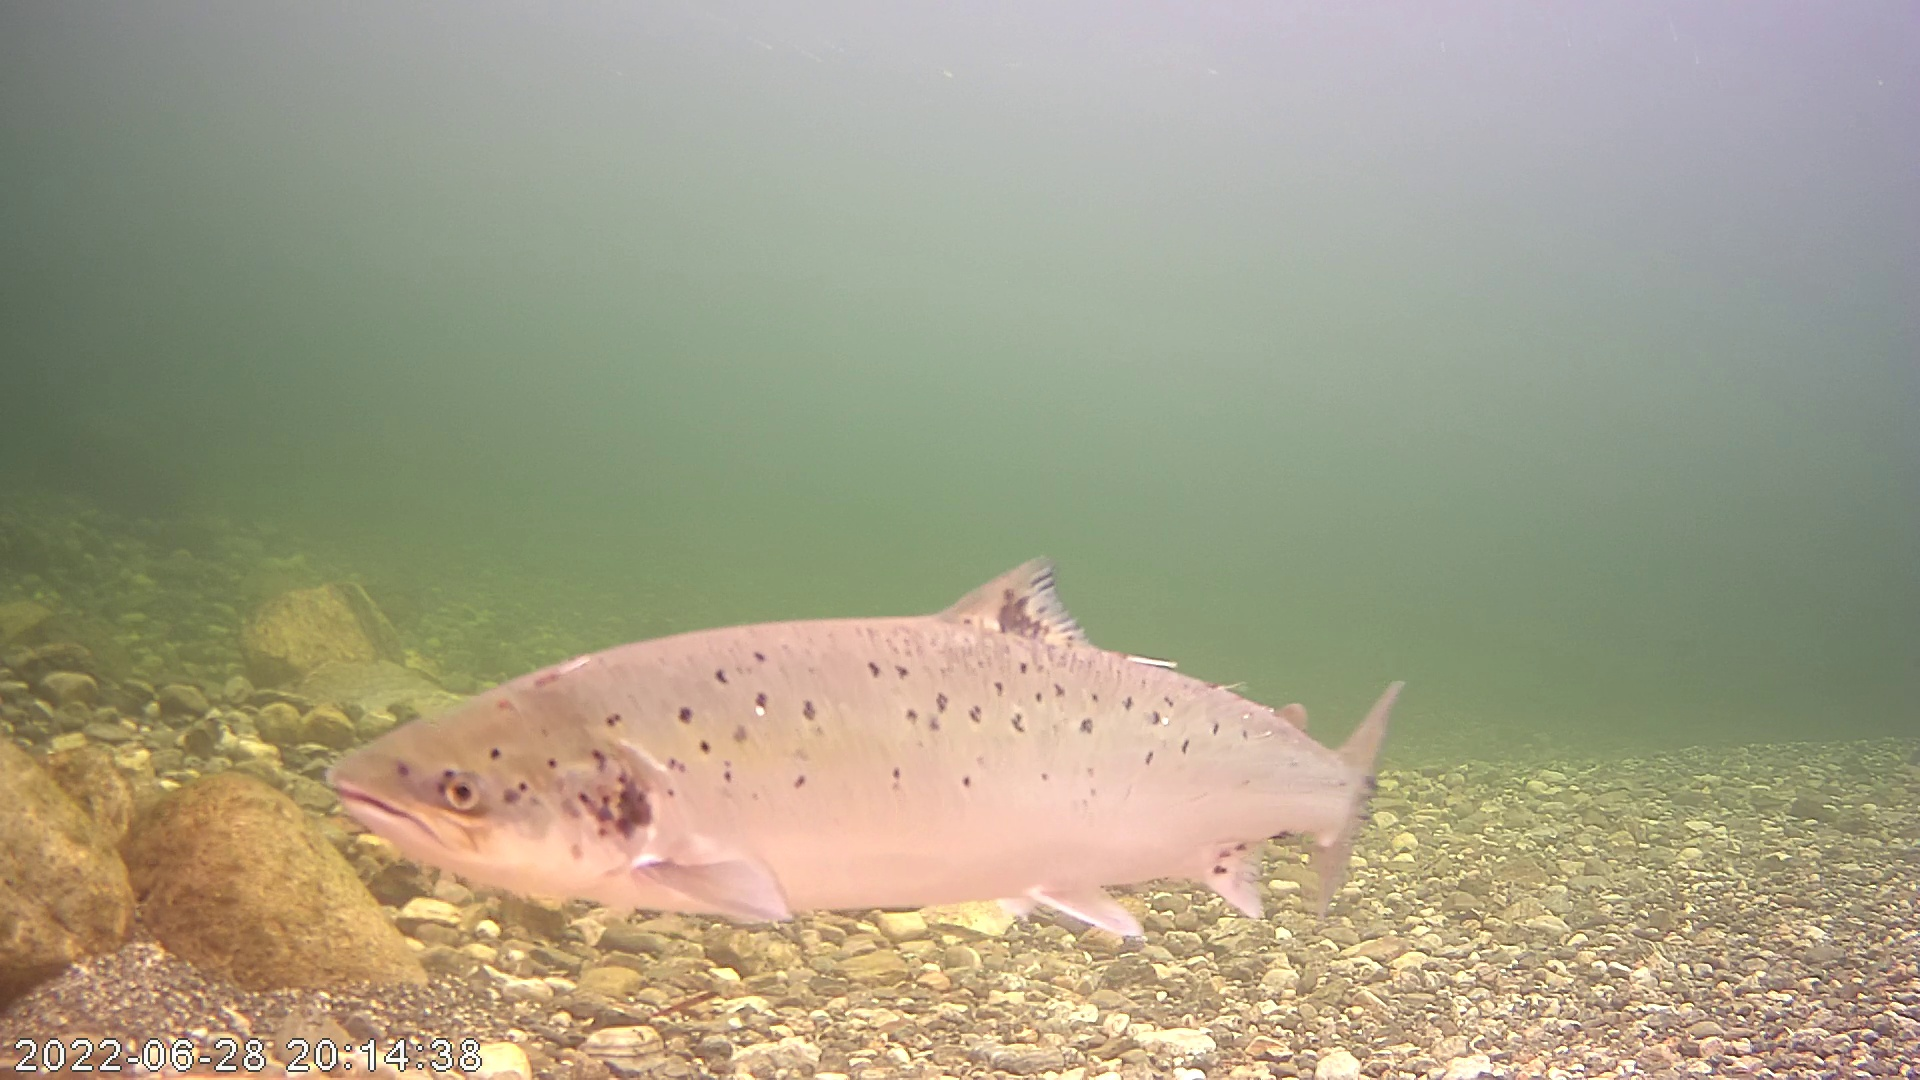salmon: (357, 492, 1418, 934)
